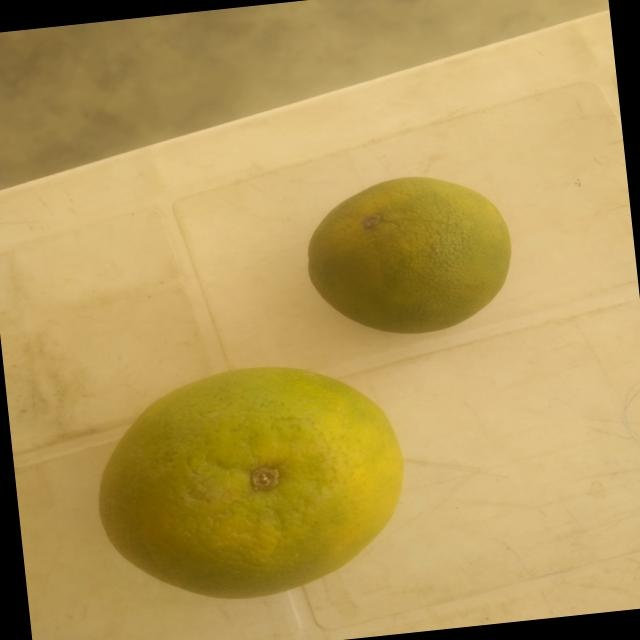agrume: (73, 347, 423, 613), (281, 158, 525, 355)
